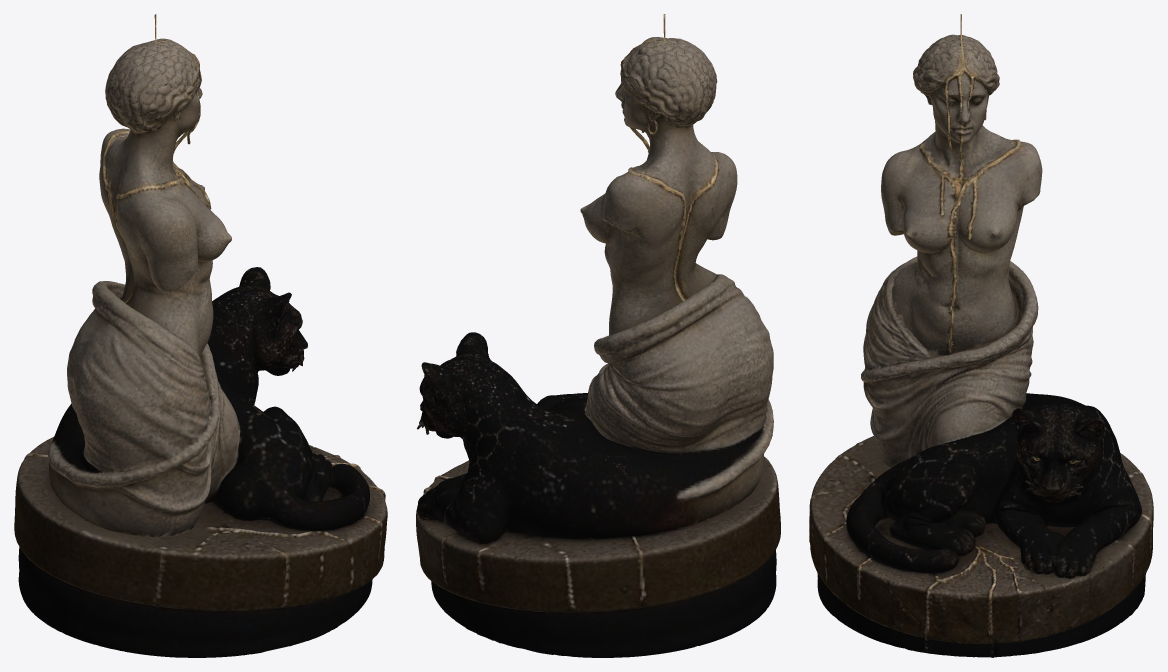
Rendered from Venus_sculpture.glb.
3 renders of one model, left to right at view 1: azimuth 30°, elevation 25°; view 2: azimuth 150°, elevation 25°; view 3: azimuth 270°, elevation 25°, orthographic. The views are drawn at different scales.
Visible parts, largest first — view 1: tripo_node_a0f081bb-2f46-4783-a456-52a75e8f6601; view 2: tripo_node_a0f081bb-2f46-4783-a456-52a75e8f6601; view 3: tripo_node_a0f081bb-2f46-4783-a456-52a75e8f6601.
Part boxes in pixels (left/top/right/bottom): tripo_node_a0f081bb-2f46-4783-a456-52a75e8f6601: left=14, top=14, right=387, bottom=657; tripo_node_a0f081bb-2f46-4783-a456-52a75e8f6601: left=416, top=14, right=780, bottom=657; tripo_node_a0f081bb-2f46-4783-a456-52a75e8f6601: left=809, top=14, right=1153, bottom=657.
Size of the model in its own units: 0.5692 by 0.9814 by 0.5566.
1 material, 1 textured.
